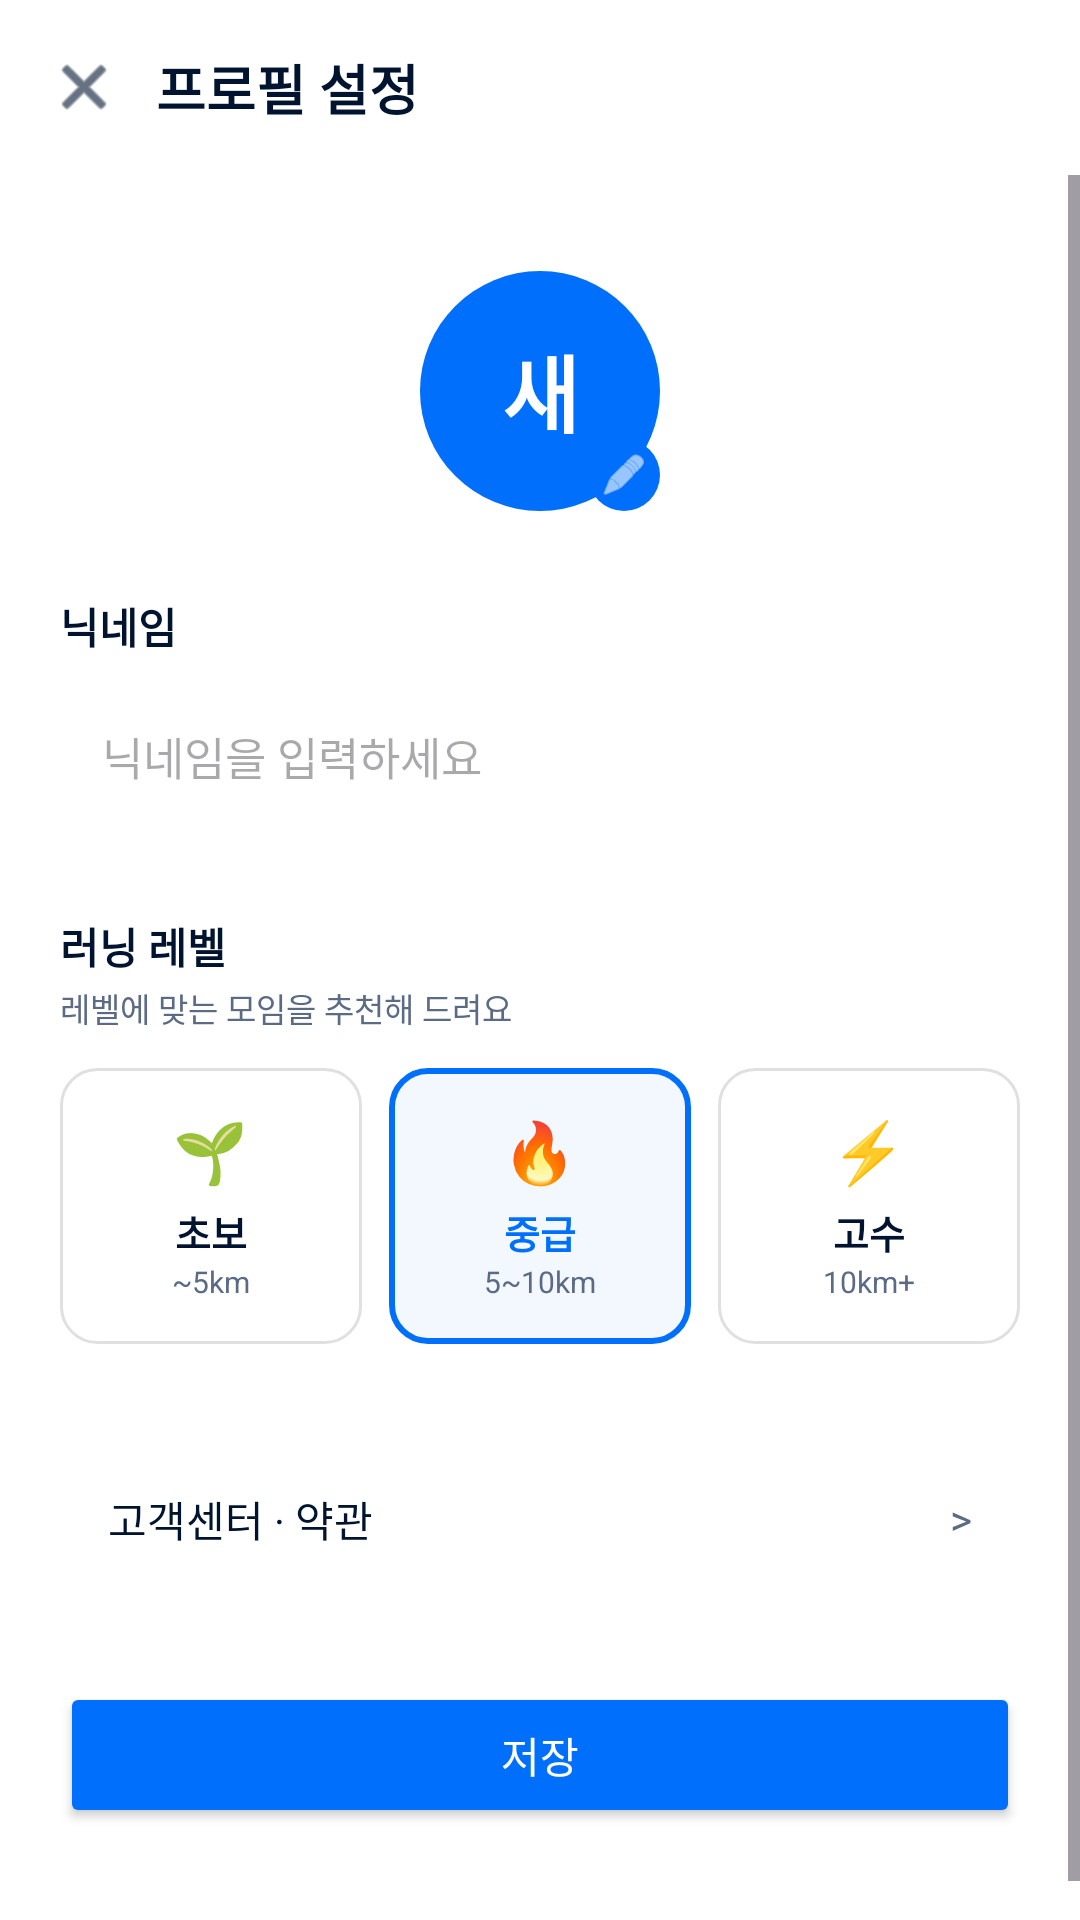

Icon click points for this 1080px×1920px phone screenshot, format point (x, y):
close clear cancel: point (84, 87)
edit: point (624, 475)
